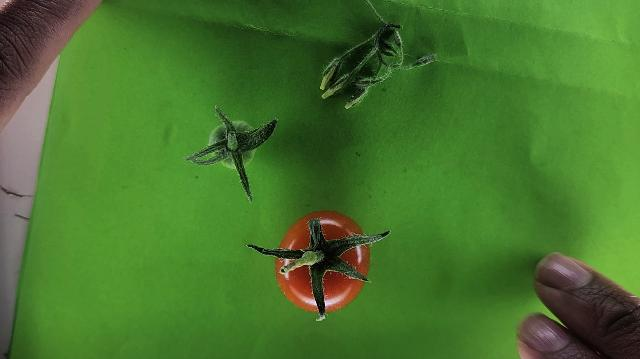Flower Bud: (404, 53, 437, 69), (321, 65, 337, 89), (344, 91, 364, 109), (321, 87, 337, 99), (331, 80, 346, 91)
Fruit Maturation: (211, 121, 258, 169)
Fully Grown: (275, 209, 369, 313)
